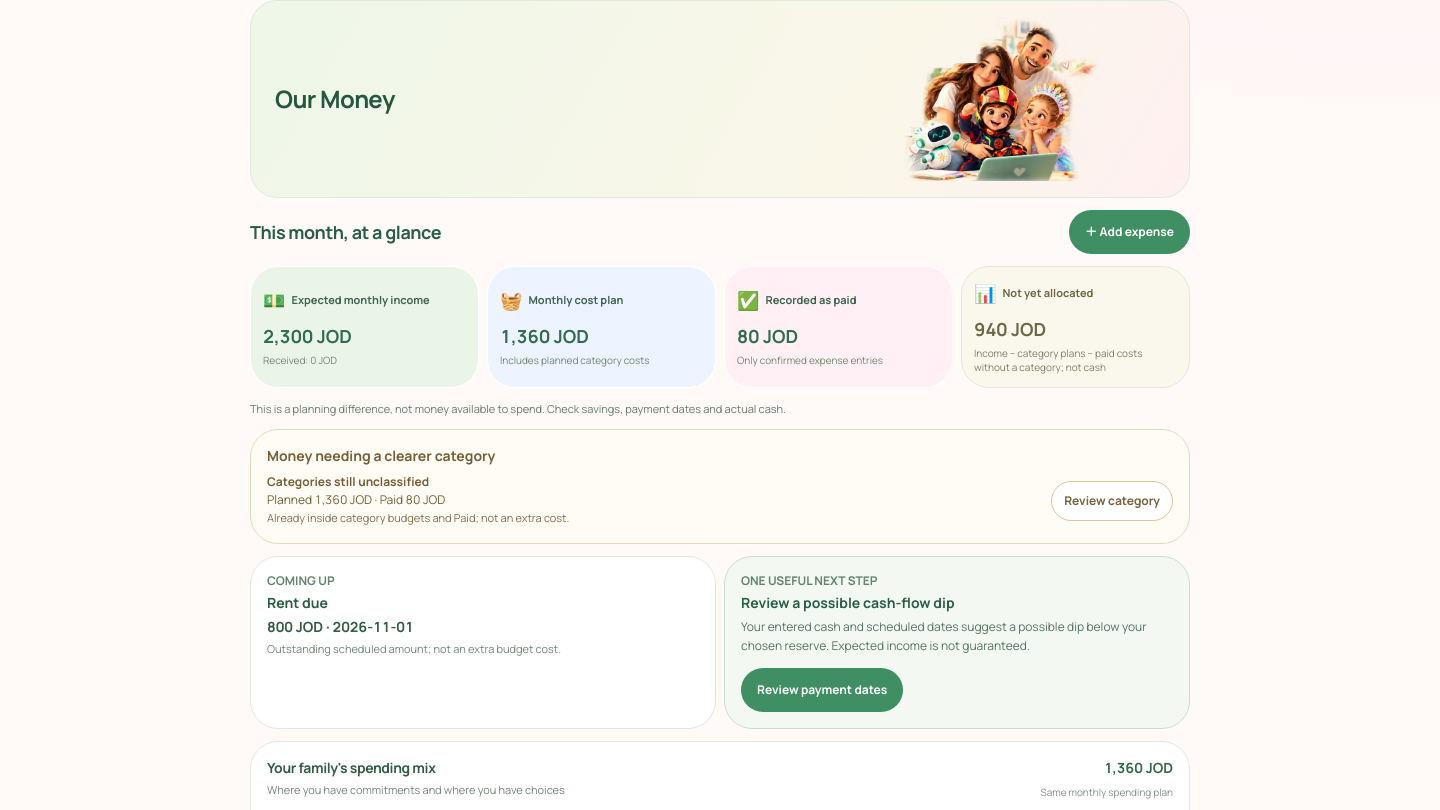
One family Money dashboard › records an actual payment exactly once from Money without moving cash
Click the button with test id "money-summary-paid" at point(838, 327), box x1=724 y1=266 x2=953 y2=388
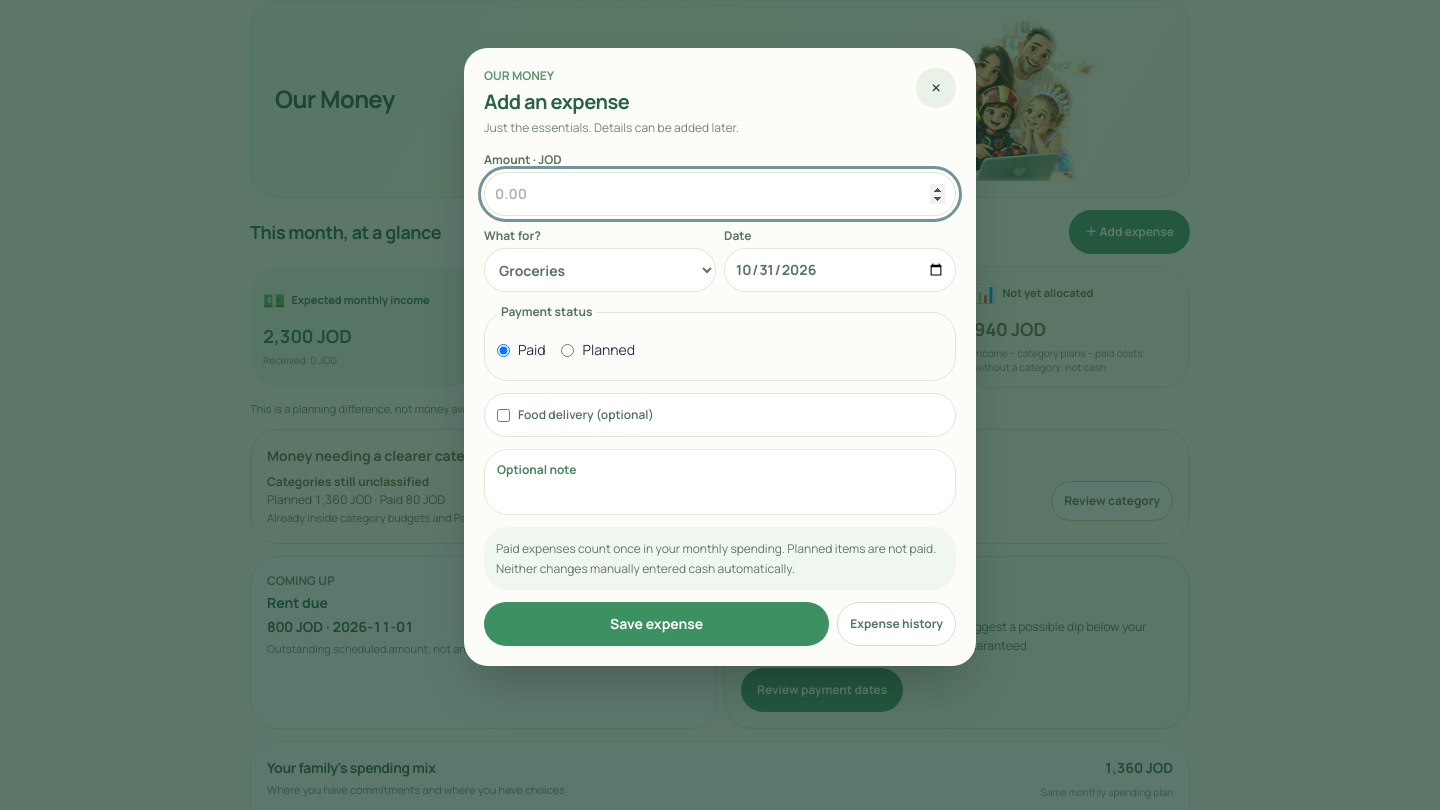
Type "20" into the number field labelled "Amount · JOD" at point(720, 194), box x1=484 y1=172 x2=956 y2=216
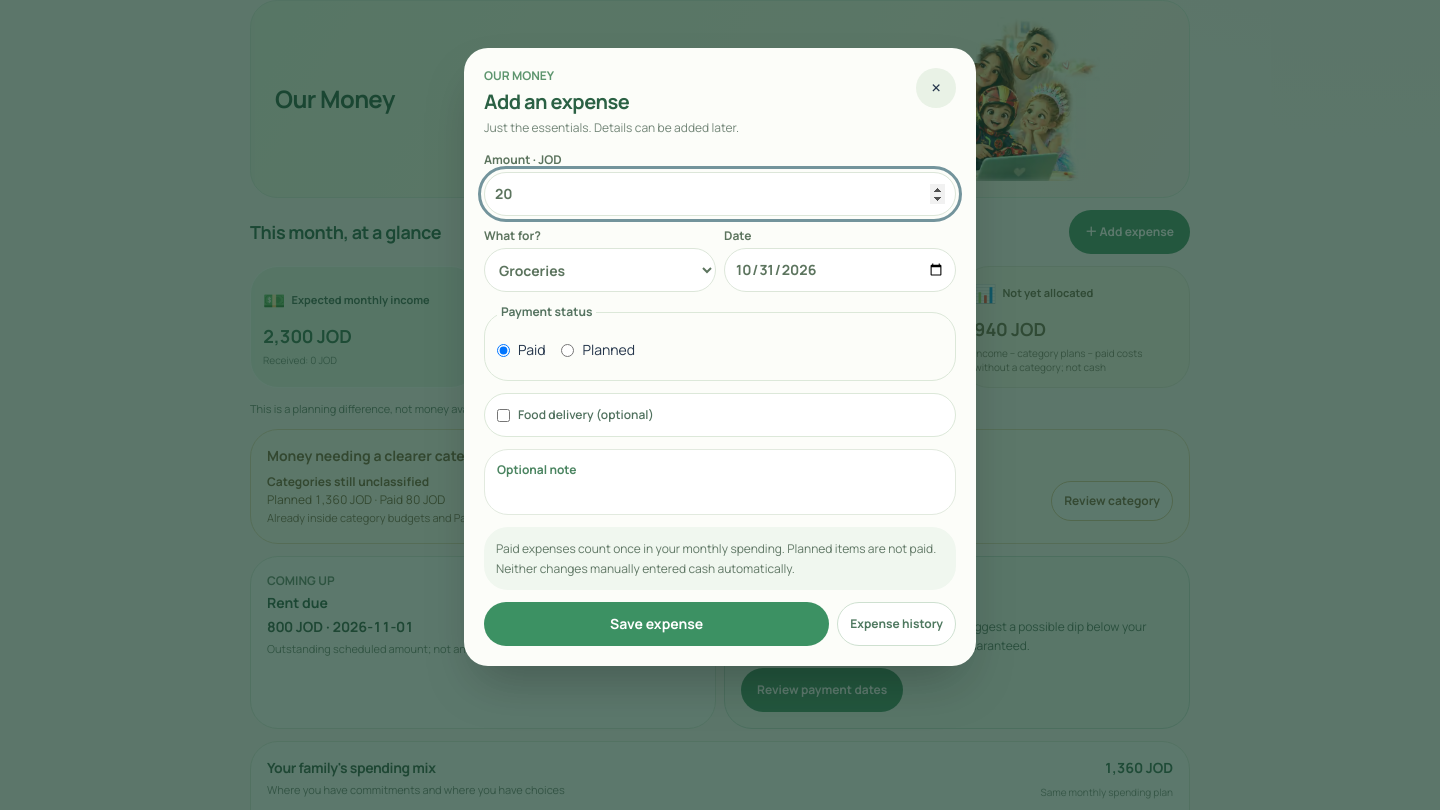
Select "Groceries" in the dropdown labelled "What for?" at point(600, 270), box x1=484 y1=248 x2=716 y2=292
Click the button "Save expense" at point(657, 624), box x1=484 y1=602 x2=829 y2=646
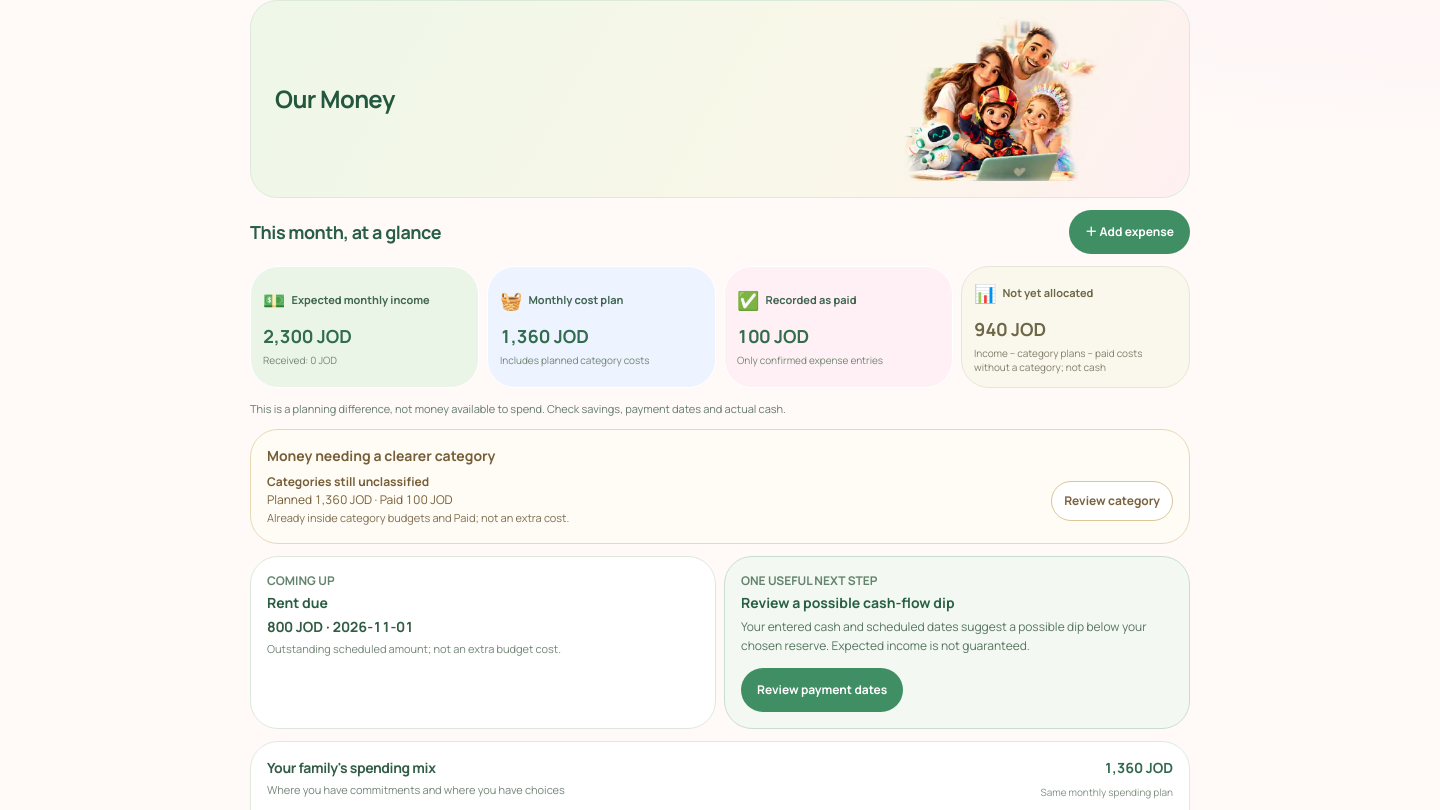
Check: the dialog is gone
